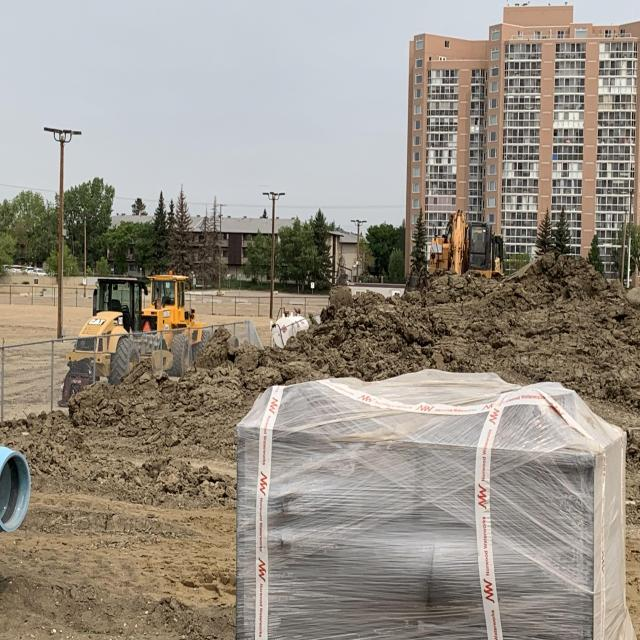buldozerpayloadergrader: (144, 275, 214, 368)
excavator: (425, 210, 506, 278)
